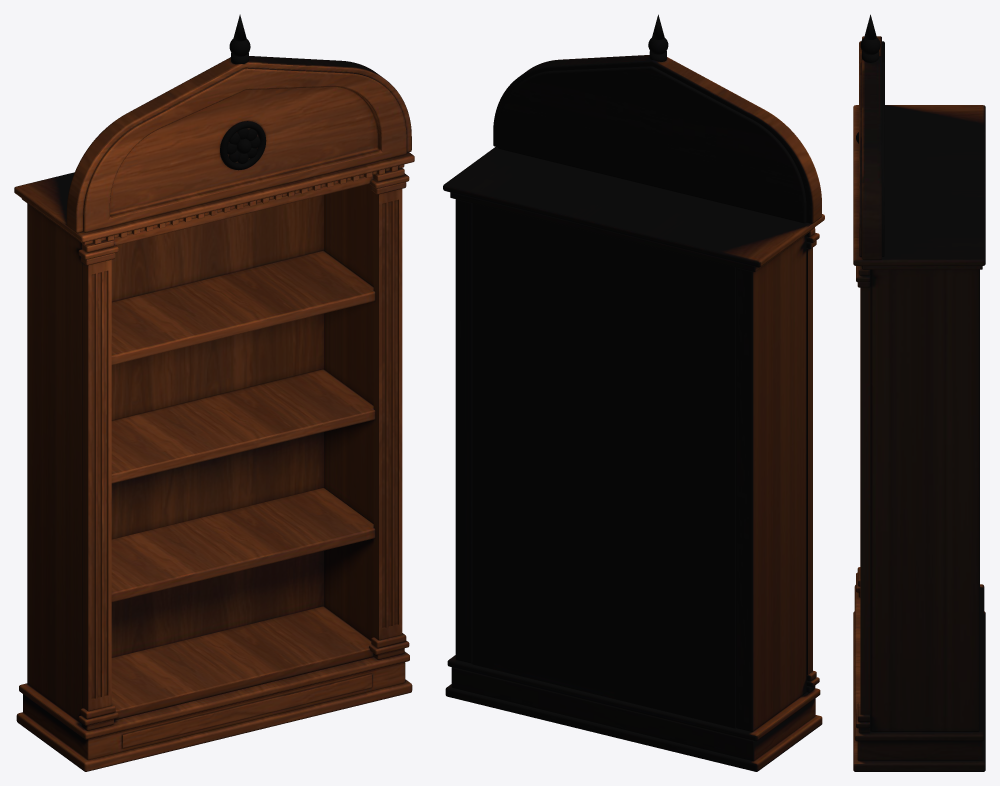
File: estante.glb
The picture shows the model from 3 angles, left to right: view 1: azimuth 30°, elevation 25°; view 2: azimuth 150°, elevation 25°; view 3: azimuth 270°, elevation 25°; orthographic projection. The views are drawn at different scales.
Visible parts, largest first — view 1: Estante_bake; view 2: Estante_bake; view 3: Estante_bake.
Boxes of the visible parts, x1=… form: Estante_bake: x1=14, y1=14, x2=414, y2=771; Estante_bake: x1=443, y1=14, x2=824, y2=771; Estante_bake: x1=853, y1=14, x2=985, y2=771.
Size of the model in its own units: 1.29 by 2.62 by 0.46.
1 material, 1 textured.
